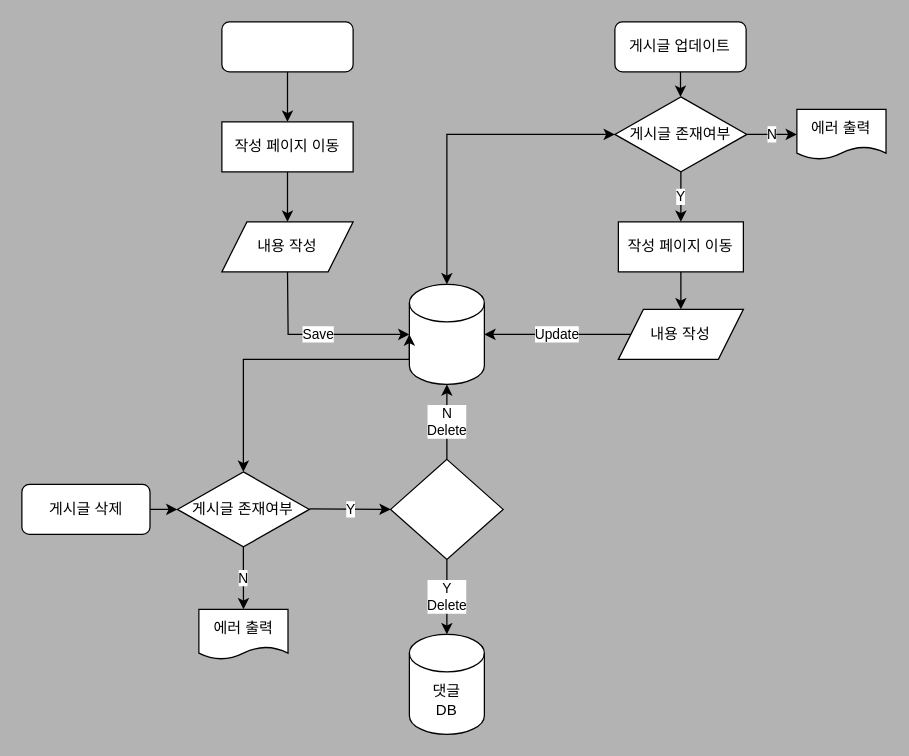
This 909x756 diagram has some shape labels left out. Here are the shapes that lost their labels. From the top down, the centre of each, then its label:
the point at 287,46: 게시글 작성
the point at 446,333: 게시글 DB
the point at 446,508: 댓글 존재여부
